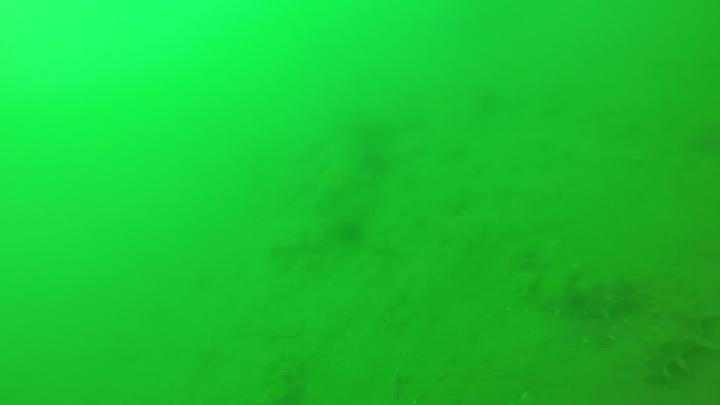echinus: (333, 216, 367, 248)
holothurian: (635, 280, 718, 386), (515, 267, 647, 323), (261, 350, 311, 405)
